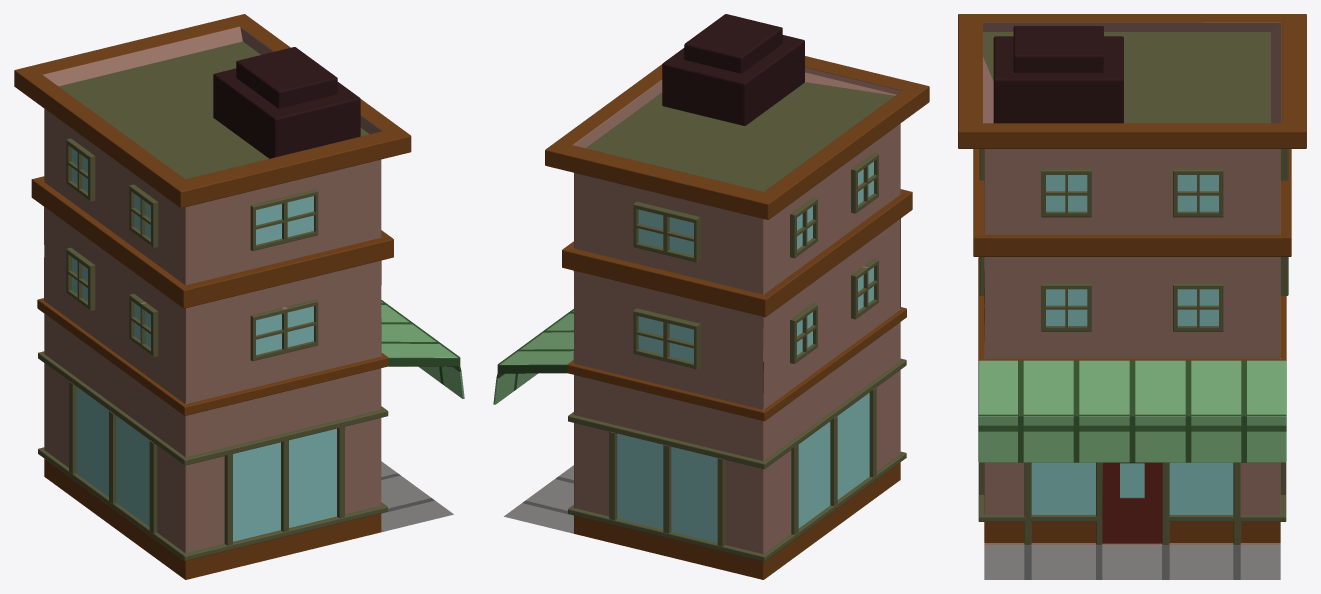
The model's file is 3rd_floor_building.fbx.
3 renders of one model, left to right at view 1: azimuth 30°, elevation 25°; view 2: azimuth 150°, elevation 25°; view 3: azimuth 270°, elevation 25°, orthographic. The views are drawn at different scales.
Visible parts, largest first — view 1: Cube; view 2: Cube; view 3: Cube.
Boxes of the visible parts, x1,y1,x2,y2 form: Cube: (14,14,464,579); Cube: (493,14,929,579); Cube: (958,14,1306,579).
Bounding box in the file's own units: 11974 × 17569 × 11763.
